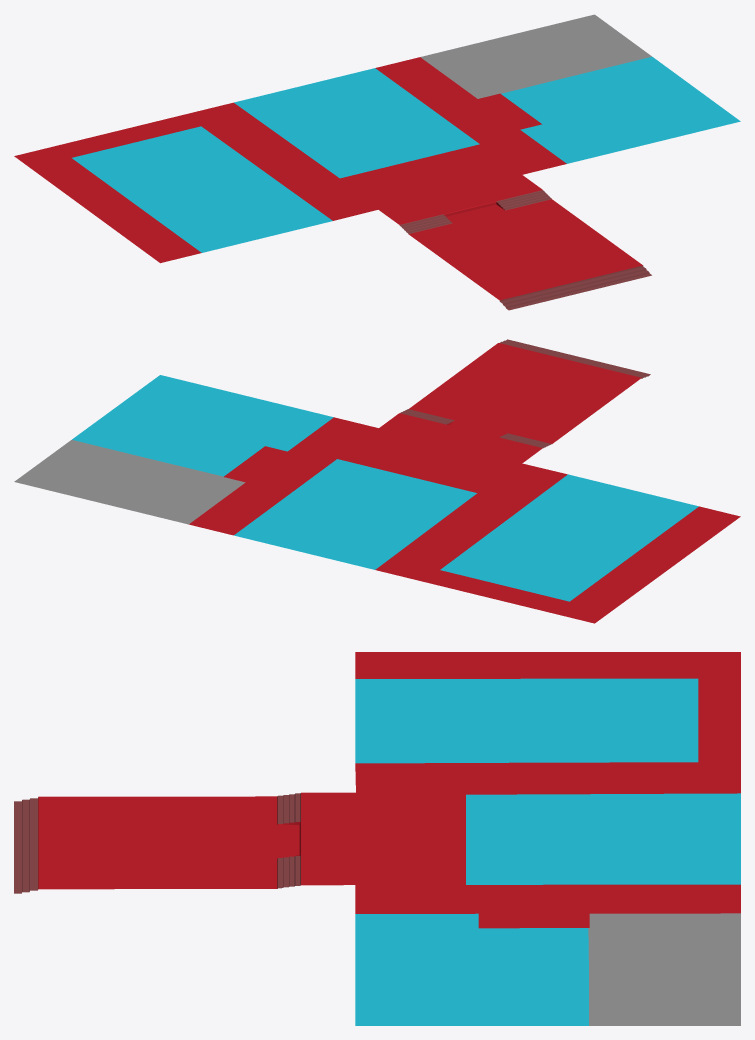
File: Piso_.fbx
3 views of the same model, one above another, from view 1: azimuth 30°, elevation 25°; view 2: azimuth 150°, elevation 25°; view 3: azimuth 270°, elevation 25° (orthographic). The views are drawn at different scales.
Parts seen in each view (by area): view 1: Escenario.002; view 2: Escenario.002; view 3: Escenario.002.
Boxes of the visible parts, <box> form: Escenario.002: <box>14,14,740,310</box>; Escenario.002: <box>14,339,740,623</box>; Escenario.002: <box>14,652,740,1025</box>.
Bounding box in the file's own units: 10914 × 109 × 8973.
